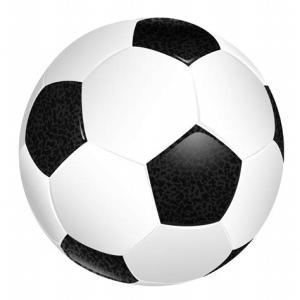Football: (16, 14, 290, 290)
